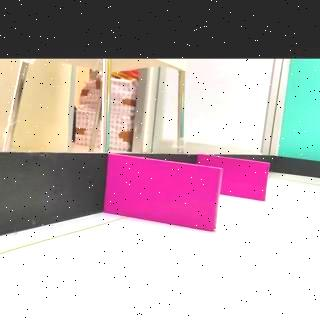xparking: (103, 155, 221, 232), (221, 157, 269, 201)
